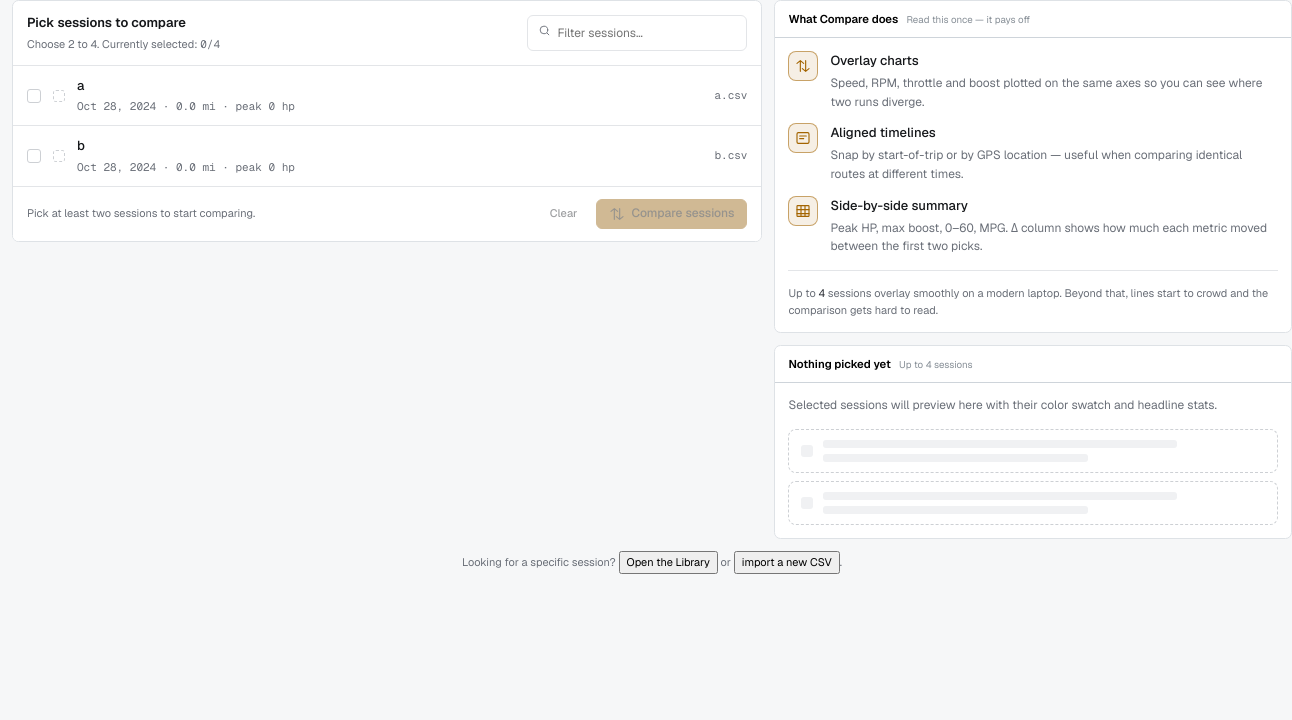
Scenario: pages/compare-logs/pick-stage › Compare button is disabled until at least two are picked
The width and height of the screenshot is (1292, 720).
Check: the button with test id "picker-compare" is disabled, box [596,199,748,229]
Click the button with test id "picker-row-s_1" at (117, 106), box [13,66,761,126]
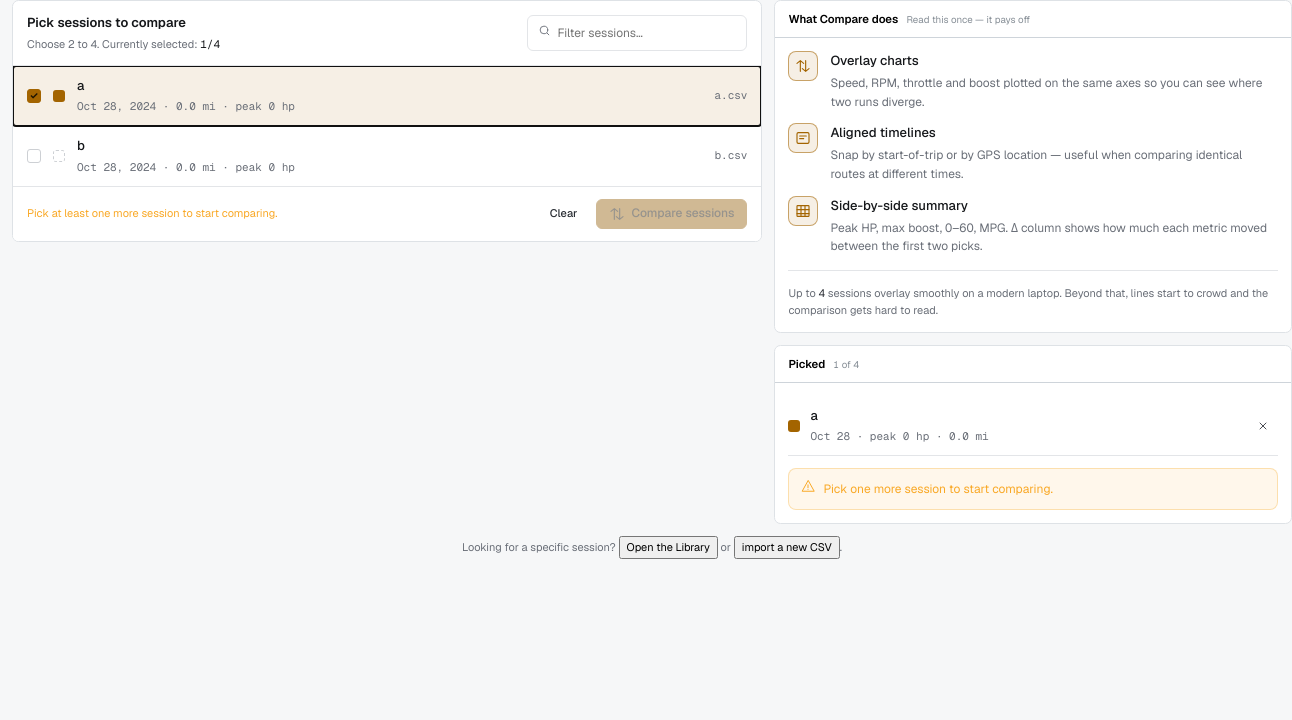
Check: the button with test id "picker-compare" is disabled, box [596,199,748,229]
Click the button with test id "picker-row-s_2" at (117, 167), box [13,126,761,186]
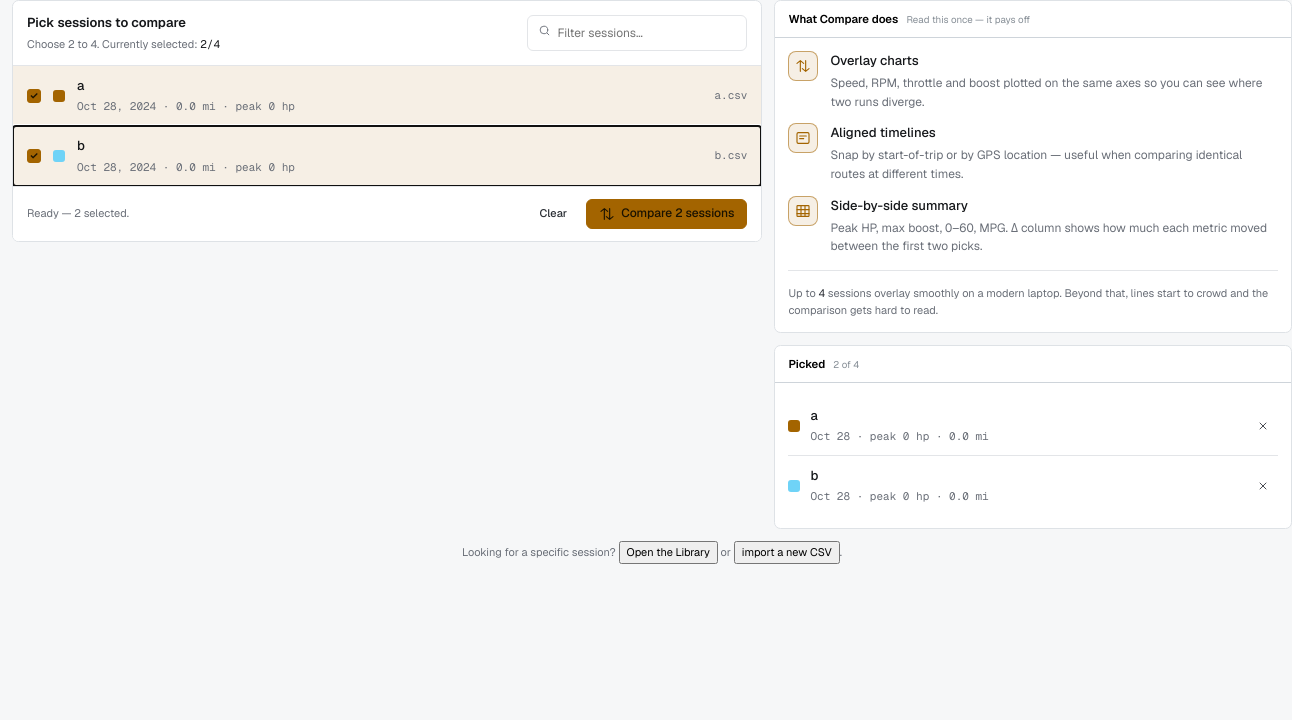
Check: the button with test id "picker-compare" is enabled, box [586,199,748,229]
